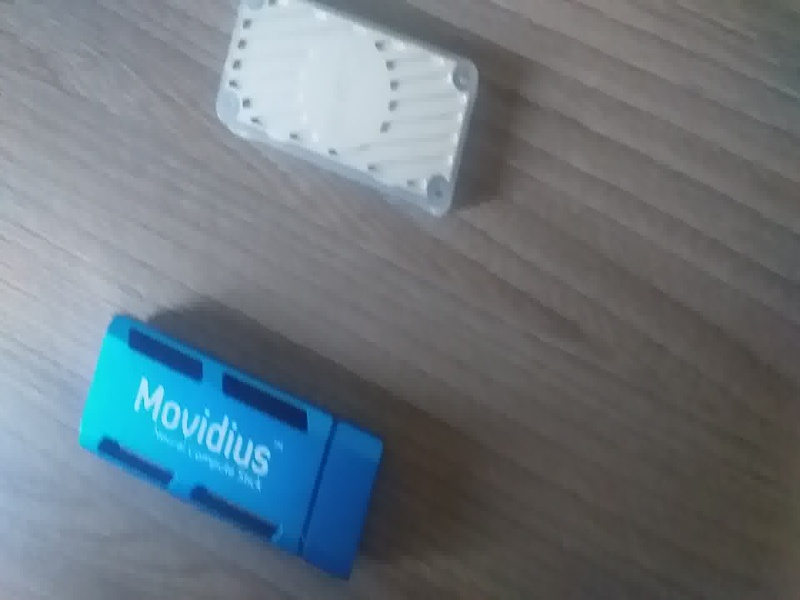coral: (205, 3, 491, 224)
movidius: (74, 308, 393, 590)
